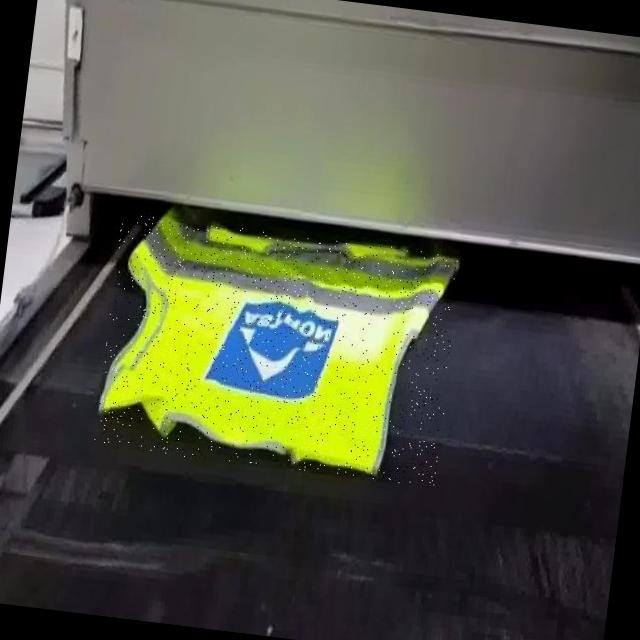vest: (92, 212, 464, 488)
